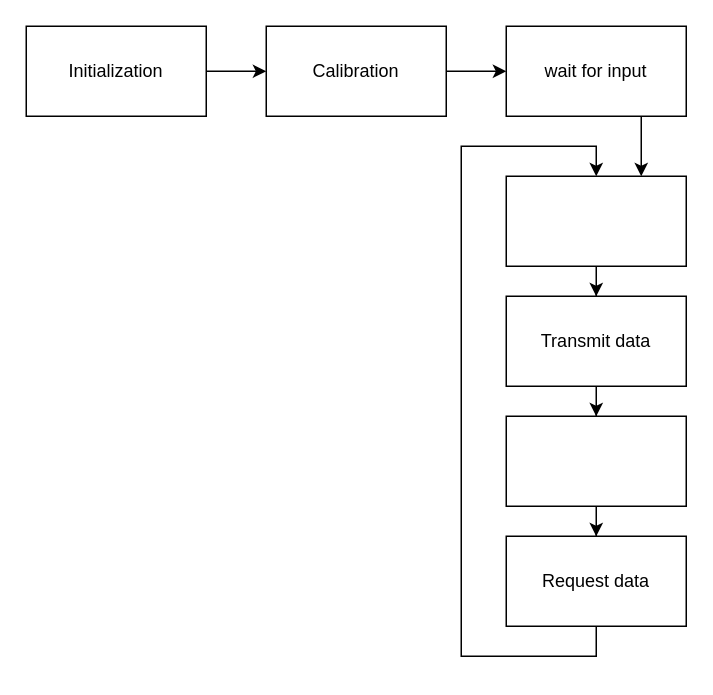
Some shapes in this 713 by 695 pixel diagram are drawn without their labels. Here are the shapes that lost their labels. From the top down, the centre of each, then its label:
point 595,220: PID calculation
point 595,460: Wait
